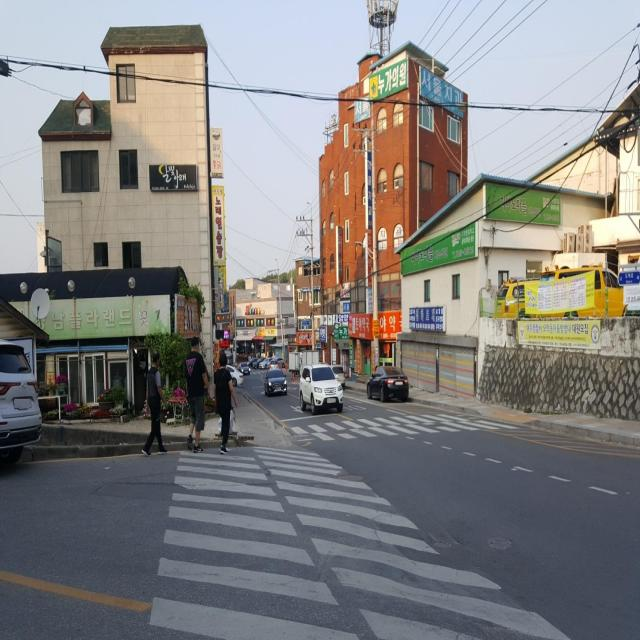횡단보도: (146, 446, 574, 640), (290, 414, 524, 444)
